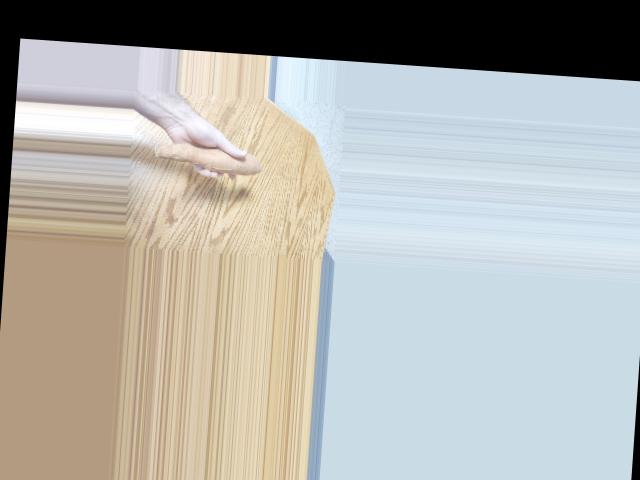sweet_potato: (150, 135, 269, 176)
